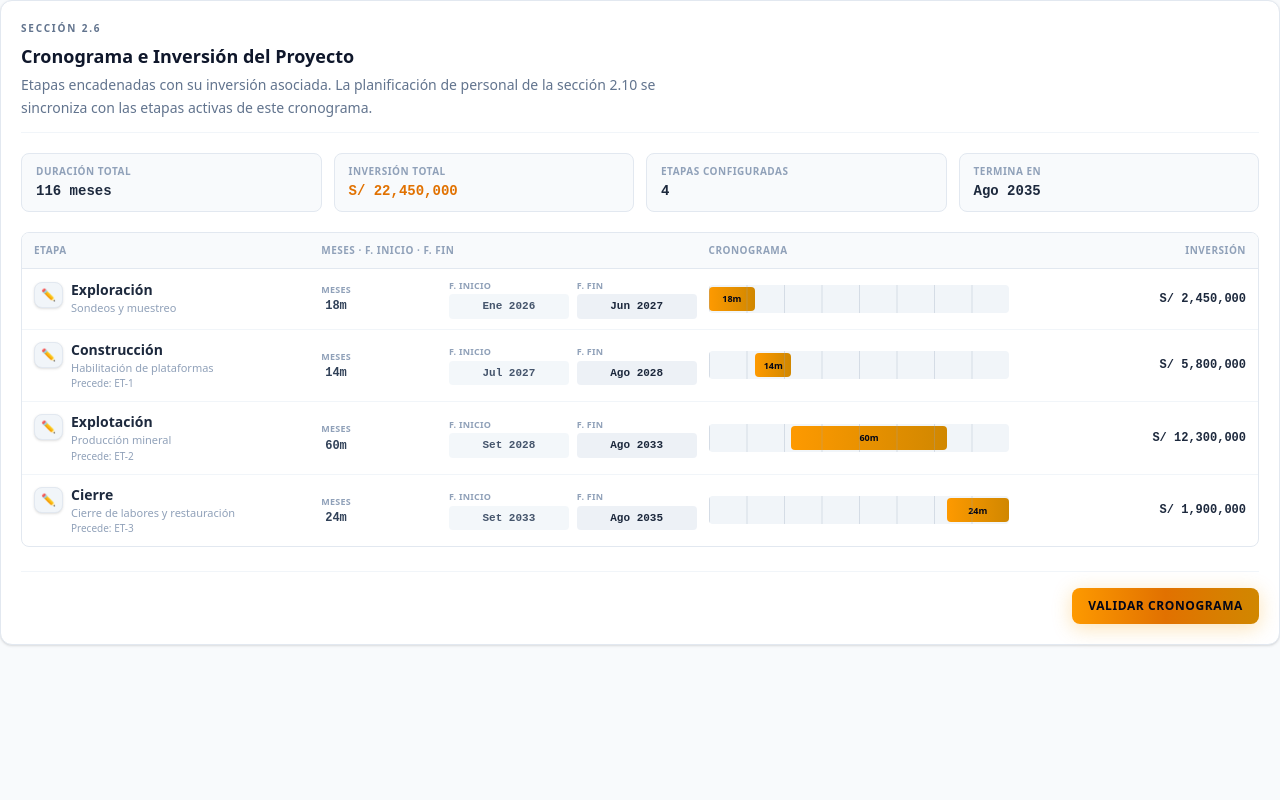
Test: CronogramaComponent › fechas calendario › cambia el fin cuando el titular alarga la duración
Click the button with class "boton-editar" next to "Exploración". click: (48, 295)
box: [34, 282, 63, 308]
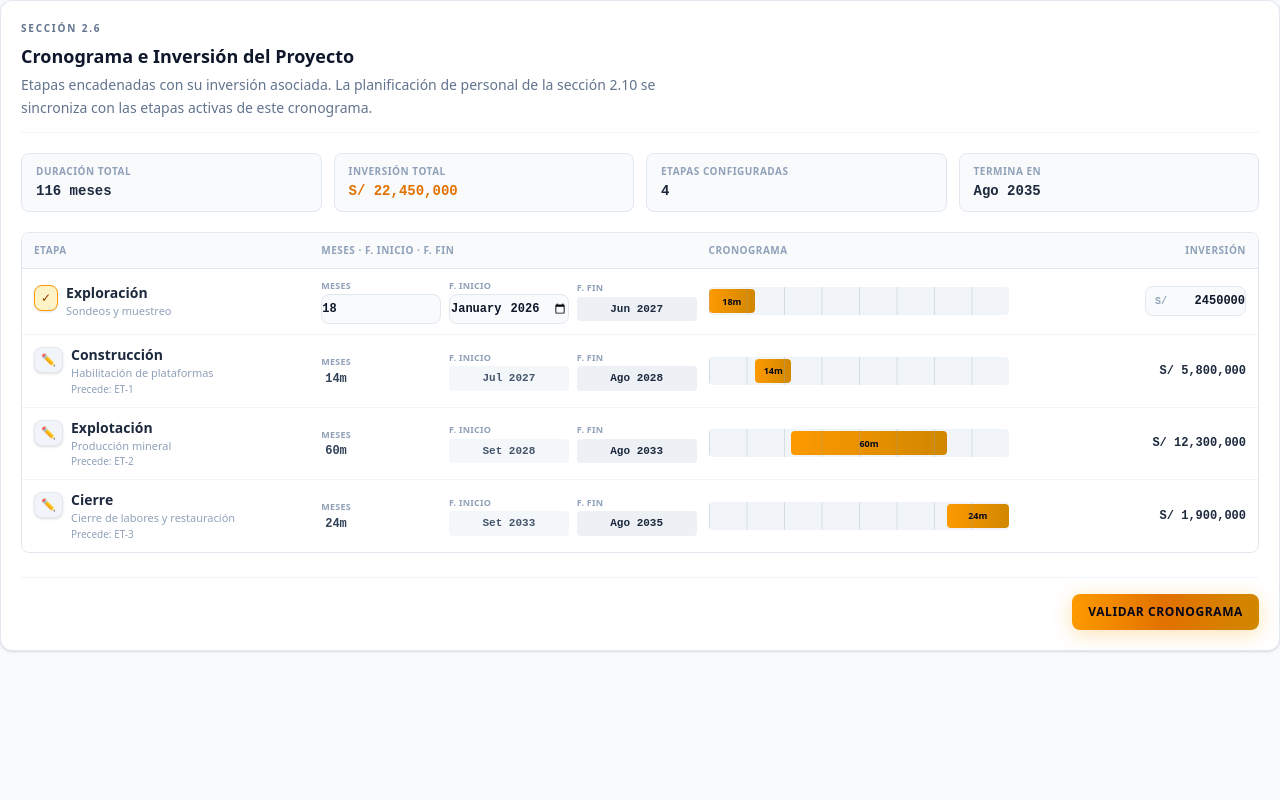
Replace the text in the 1st number field with class "inline-input" with "6". click: (381, 309)
box: [321, 294, 441, 324]
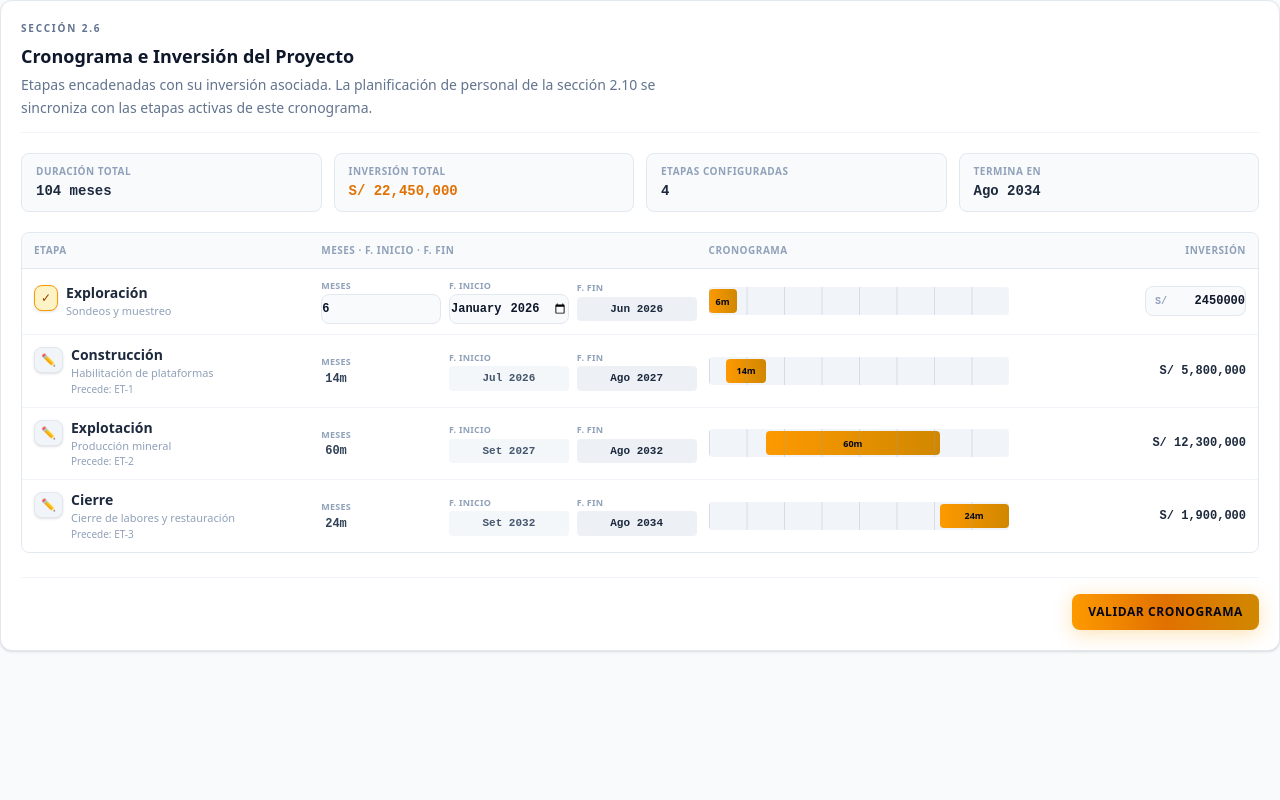
expect the text with class "fecha-pill" reads "Jun 2026": met, box [610, 303, 663, 315]
